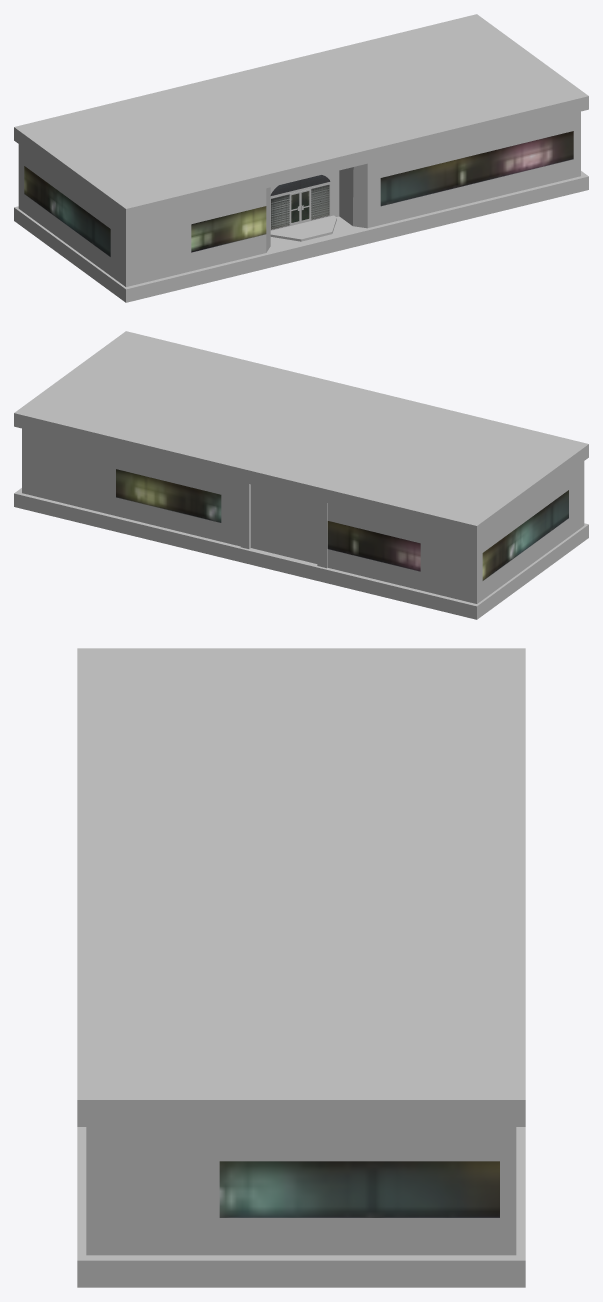
File: hirise_ent01a.fbx
The picture shows the model from 3 angles, top to bottom: view 1: azimuth 30°, elevation 25°; view 2: azimuth 150°, elevation 25°; view 3: azimuth 270°, elevation 25°; orthographic projection. The views are drawn at different scales.
Visible parts, largest first — view 1: hirise_ent01a; view 2: hirise_ent01a; view 3: hirise_ent01a.
Boxes of the visible parts, x1,y1,x2,y2 form: hirise_ent01a: (14,14,588,302); hirise_ent01a: (14,331,588,619); hirise_ent01a: (77,648,525,1287).
Bounding box in the file's own units: 31.64 × 6.13 × 13.26.
